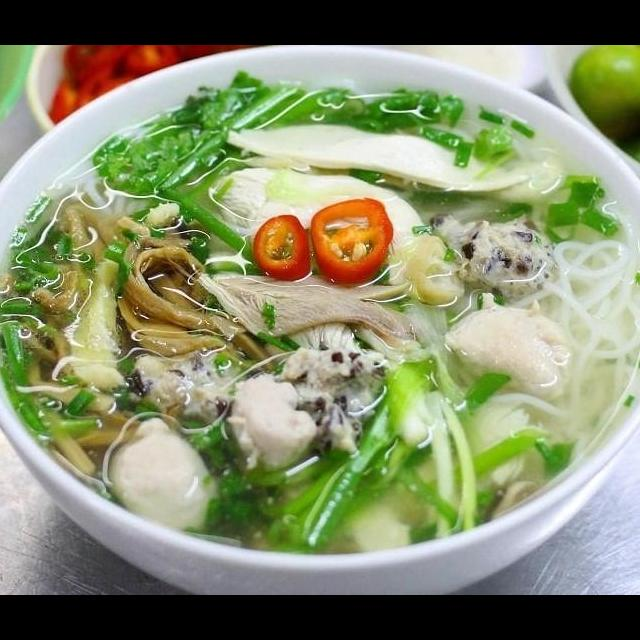bun: (536, 229, 640, 412)
bun moc: (0, 85, 640, 589)
thit heo: (184, 160, 446, 295), (220, 119, 537, 197), (205, 161, 433, 263), (192, 264, 426, 355)
vien moc: (280, 341, 397, 457), (432, 208, 564, 307), (122, 338, 256, 434)
